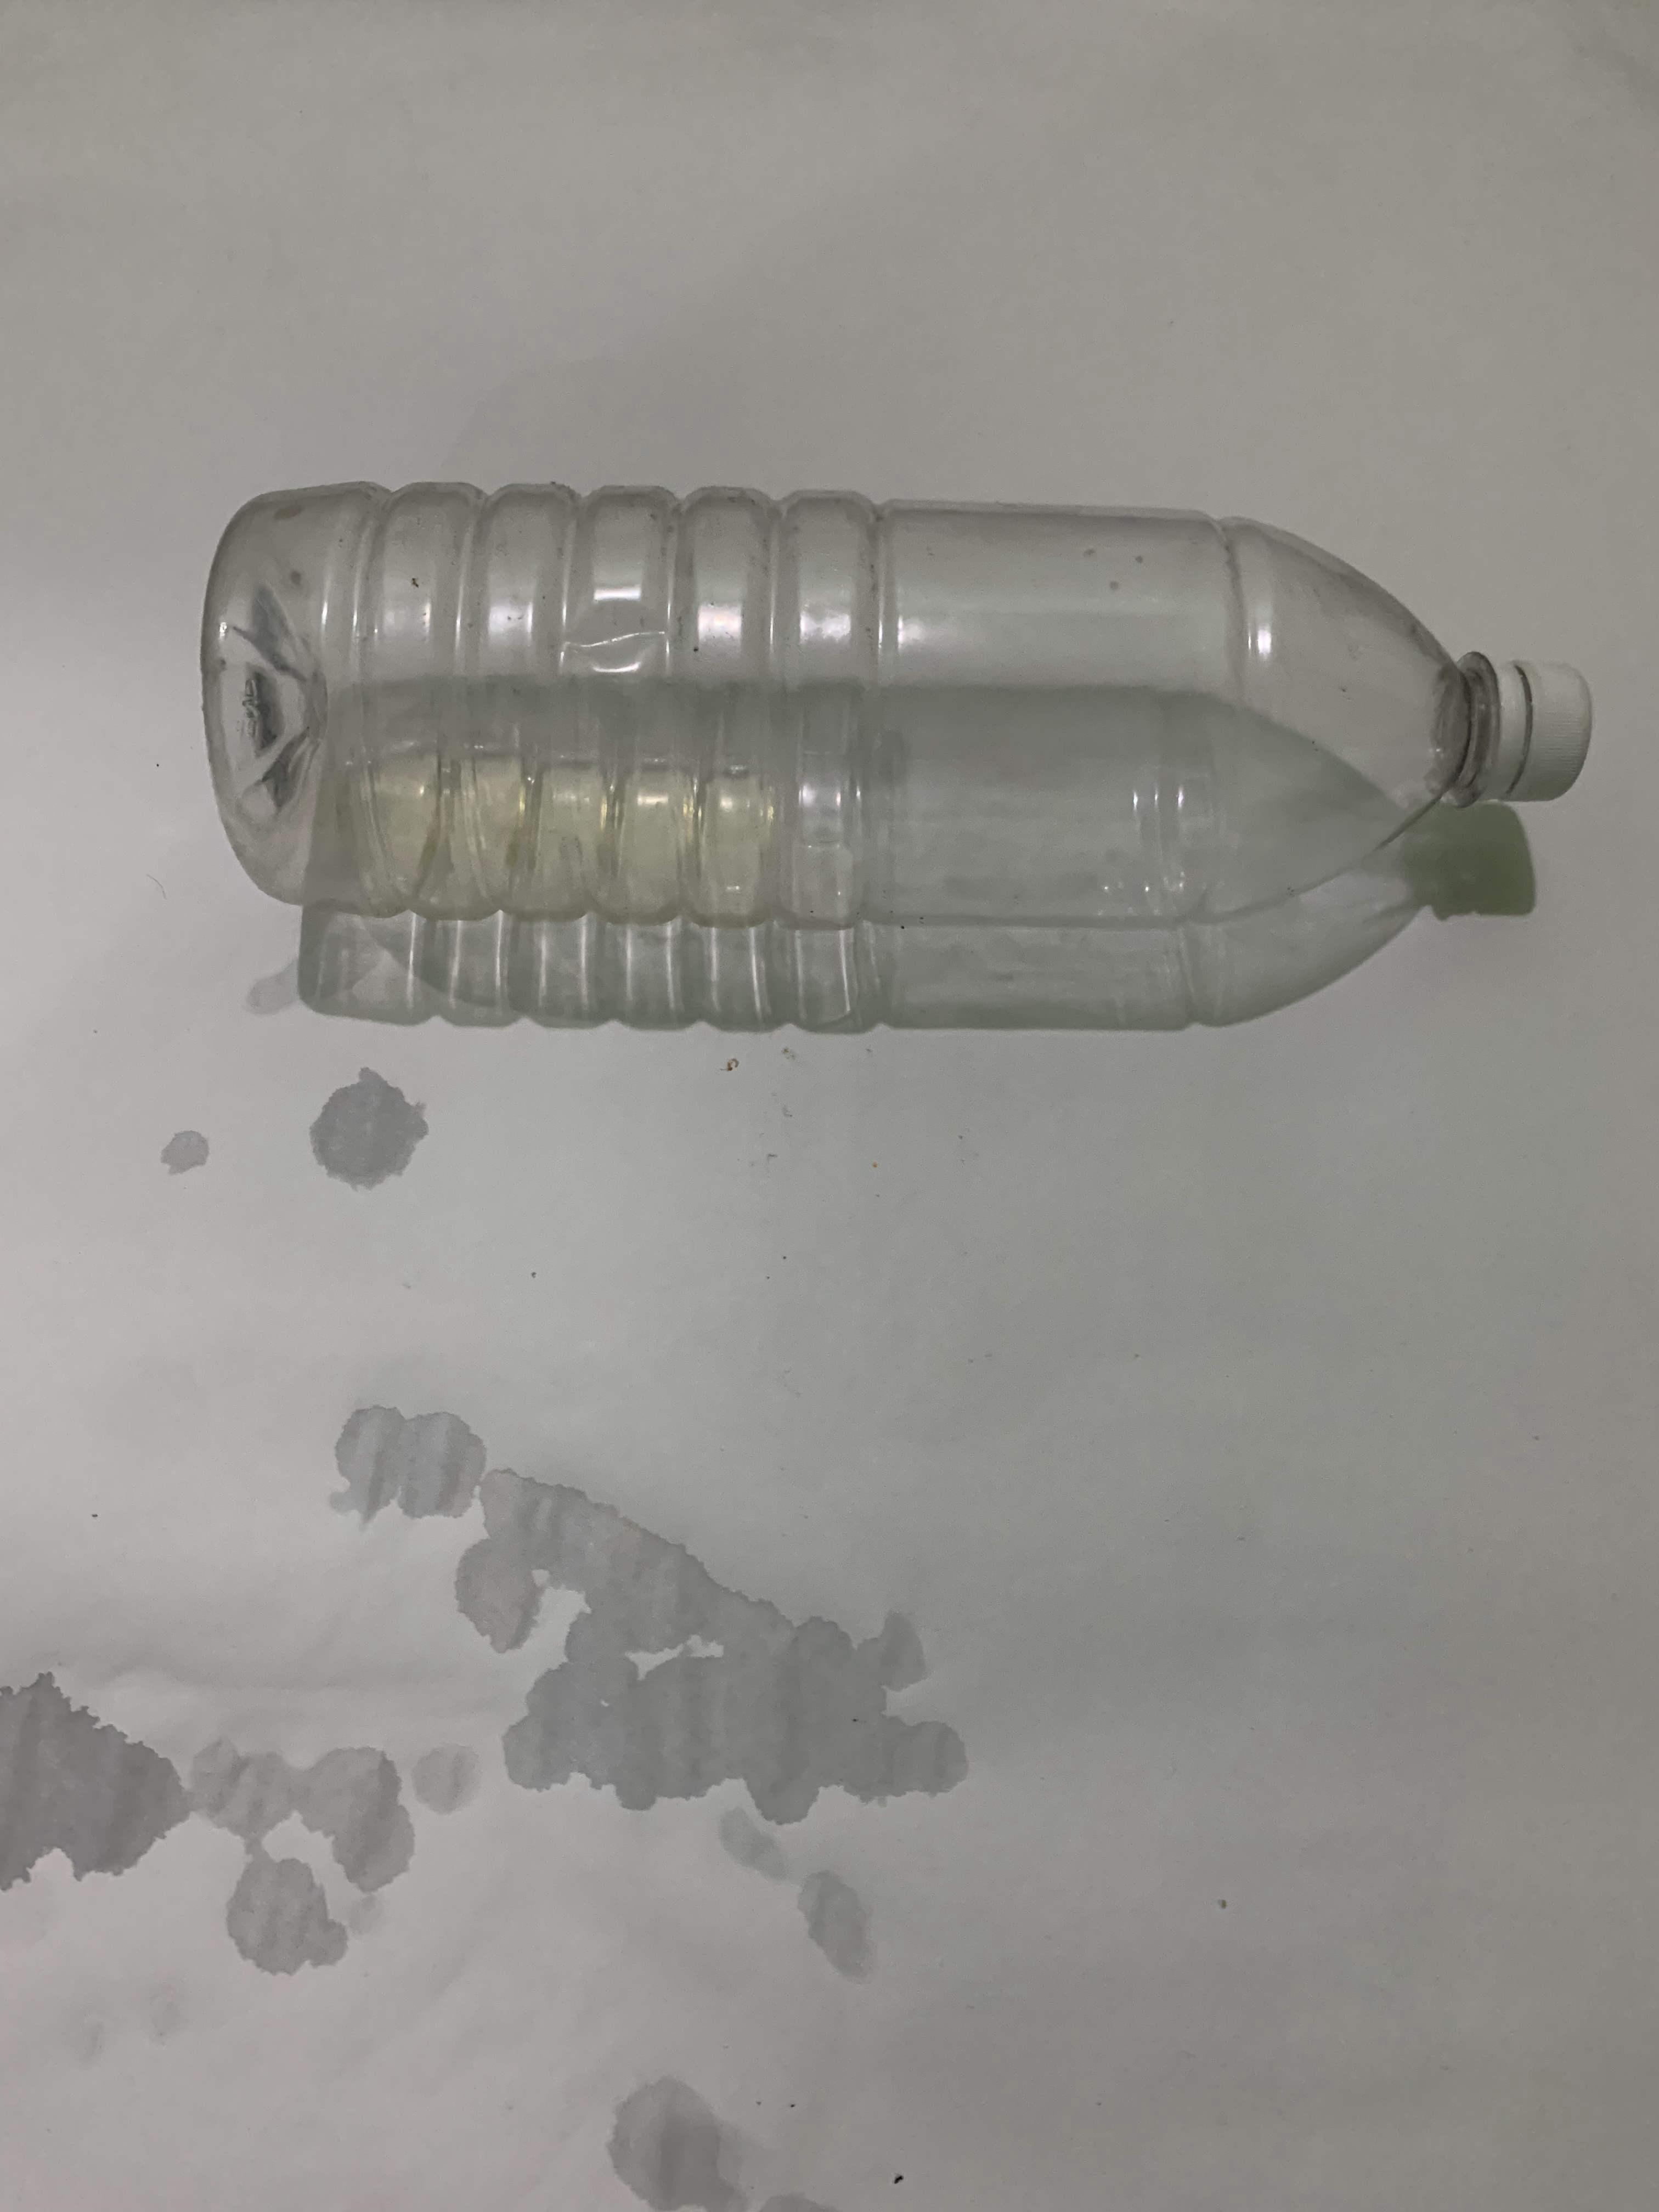bottle: (0, 472, 772, 939)
